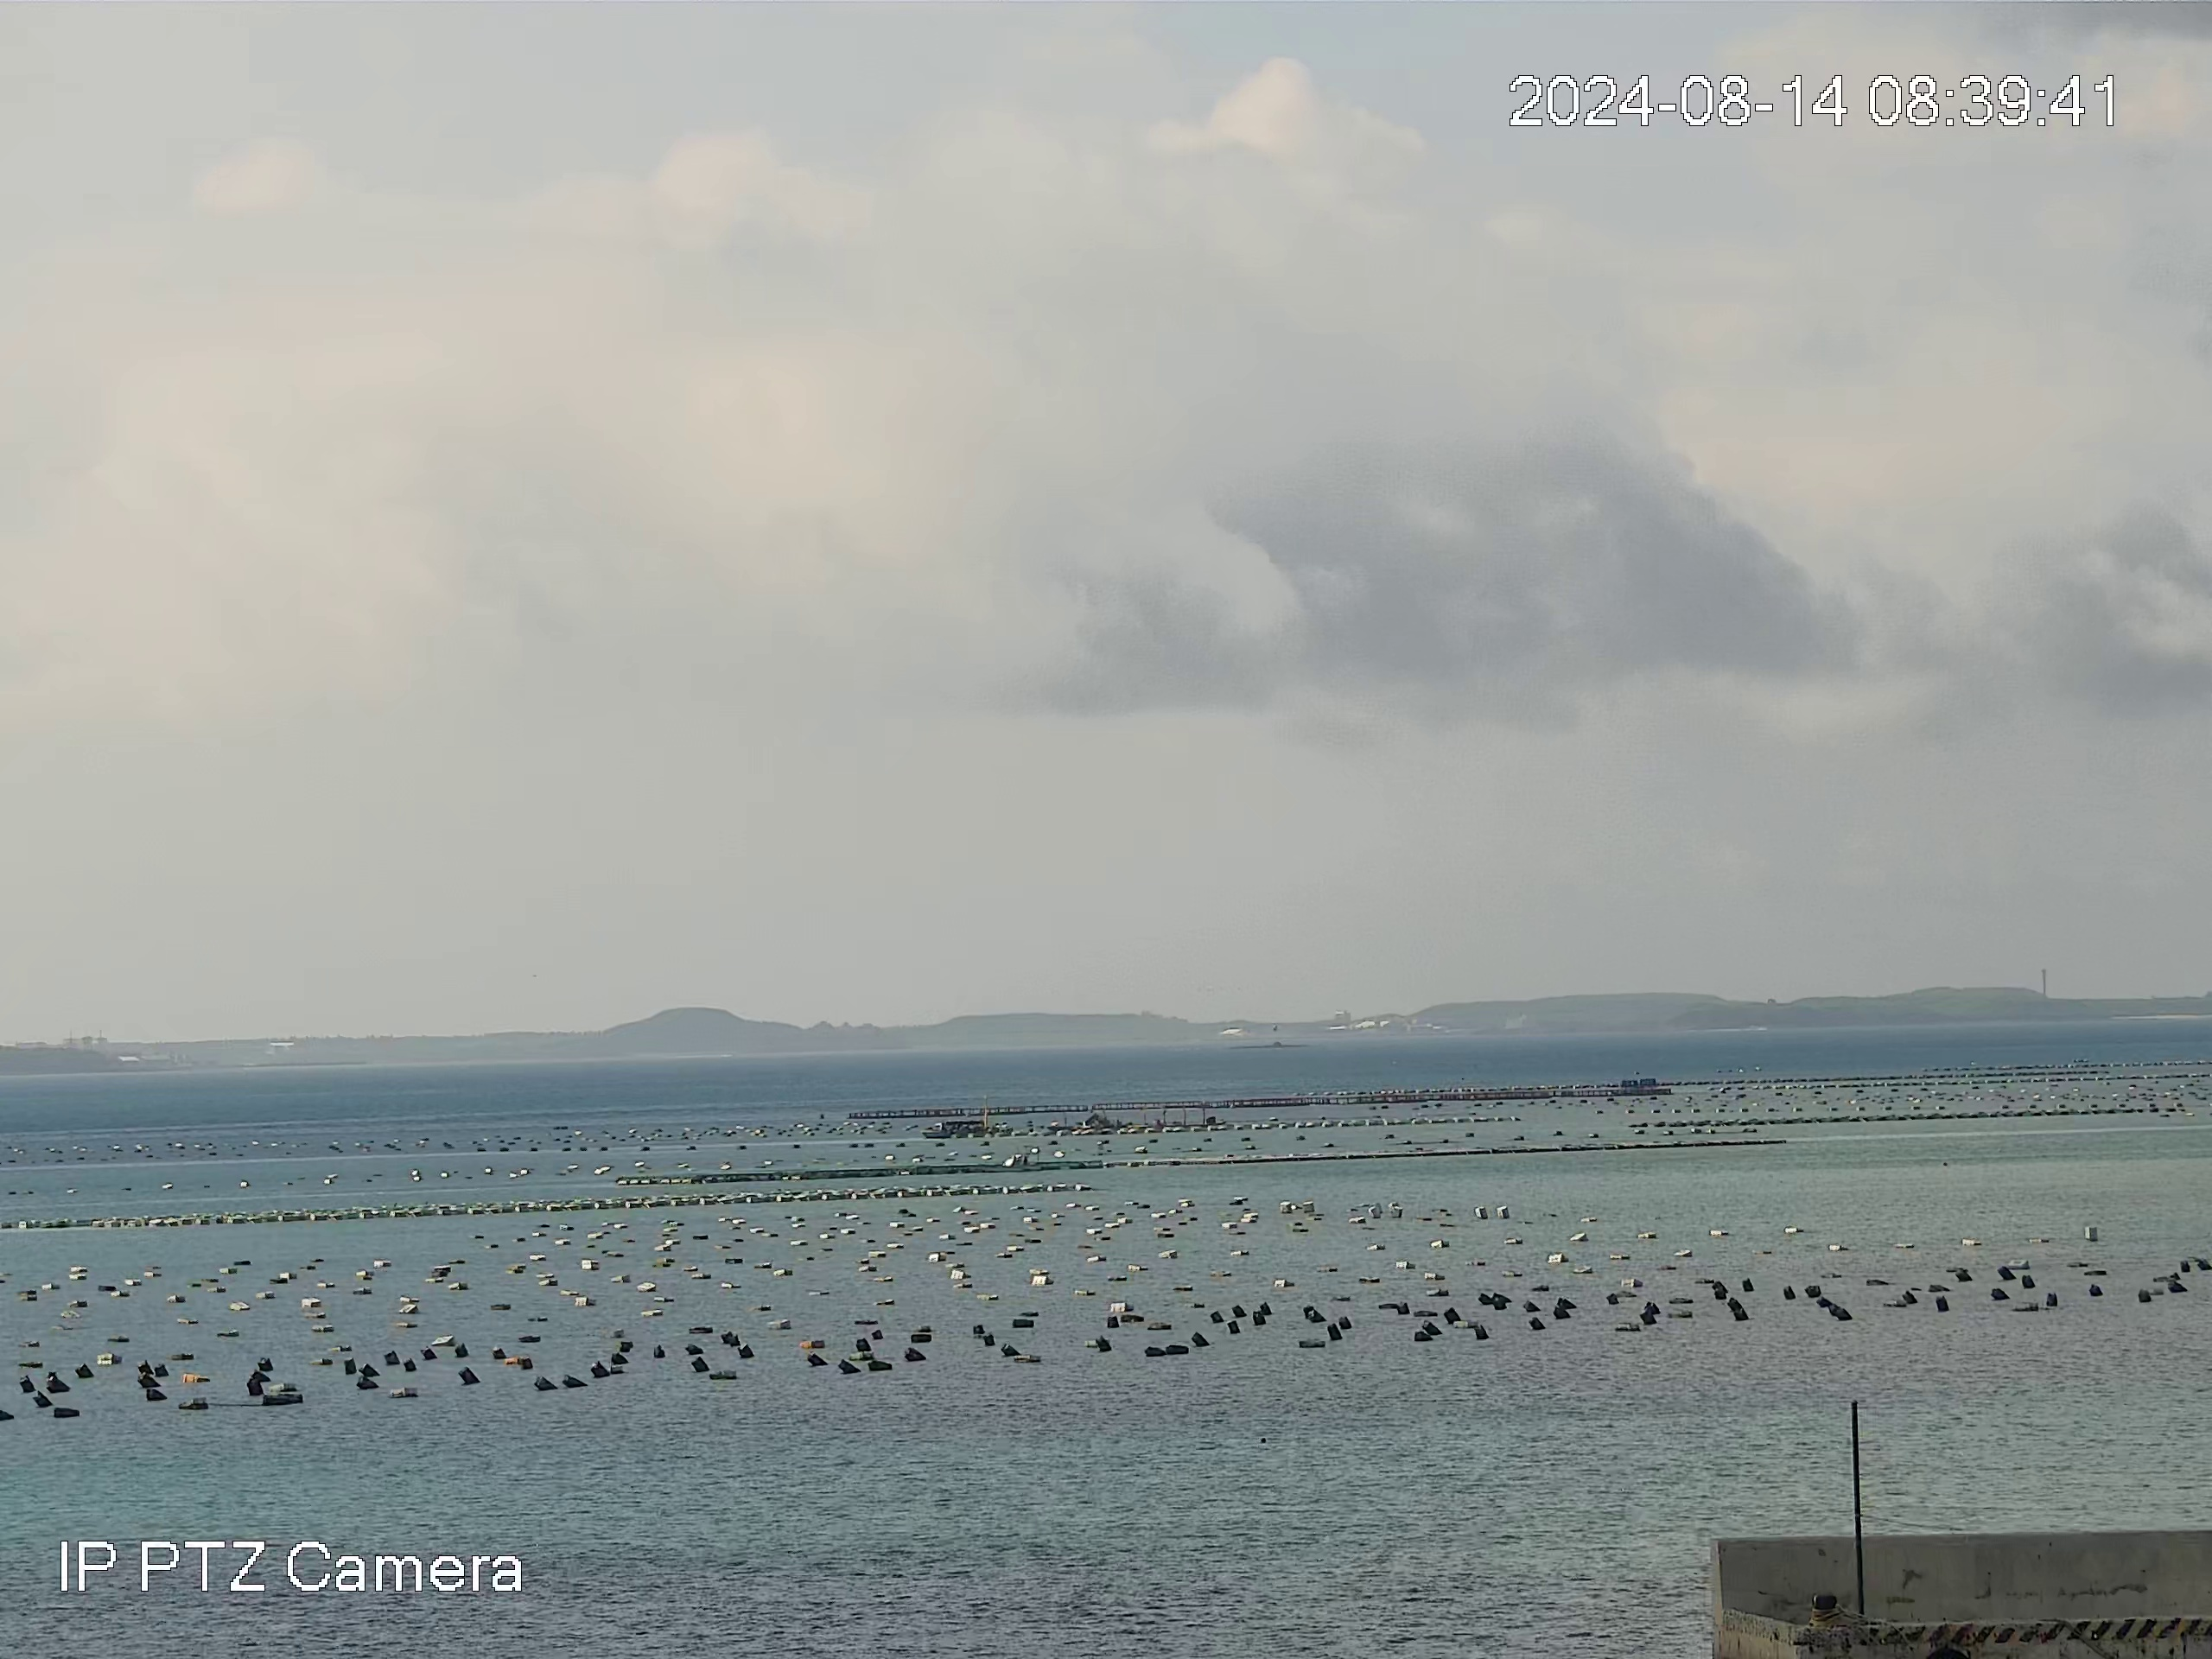boat: (923, 1119, 989, 1140)
